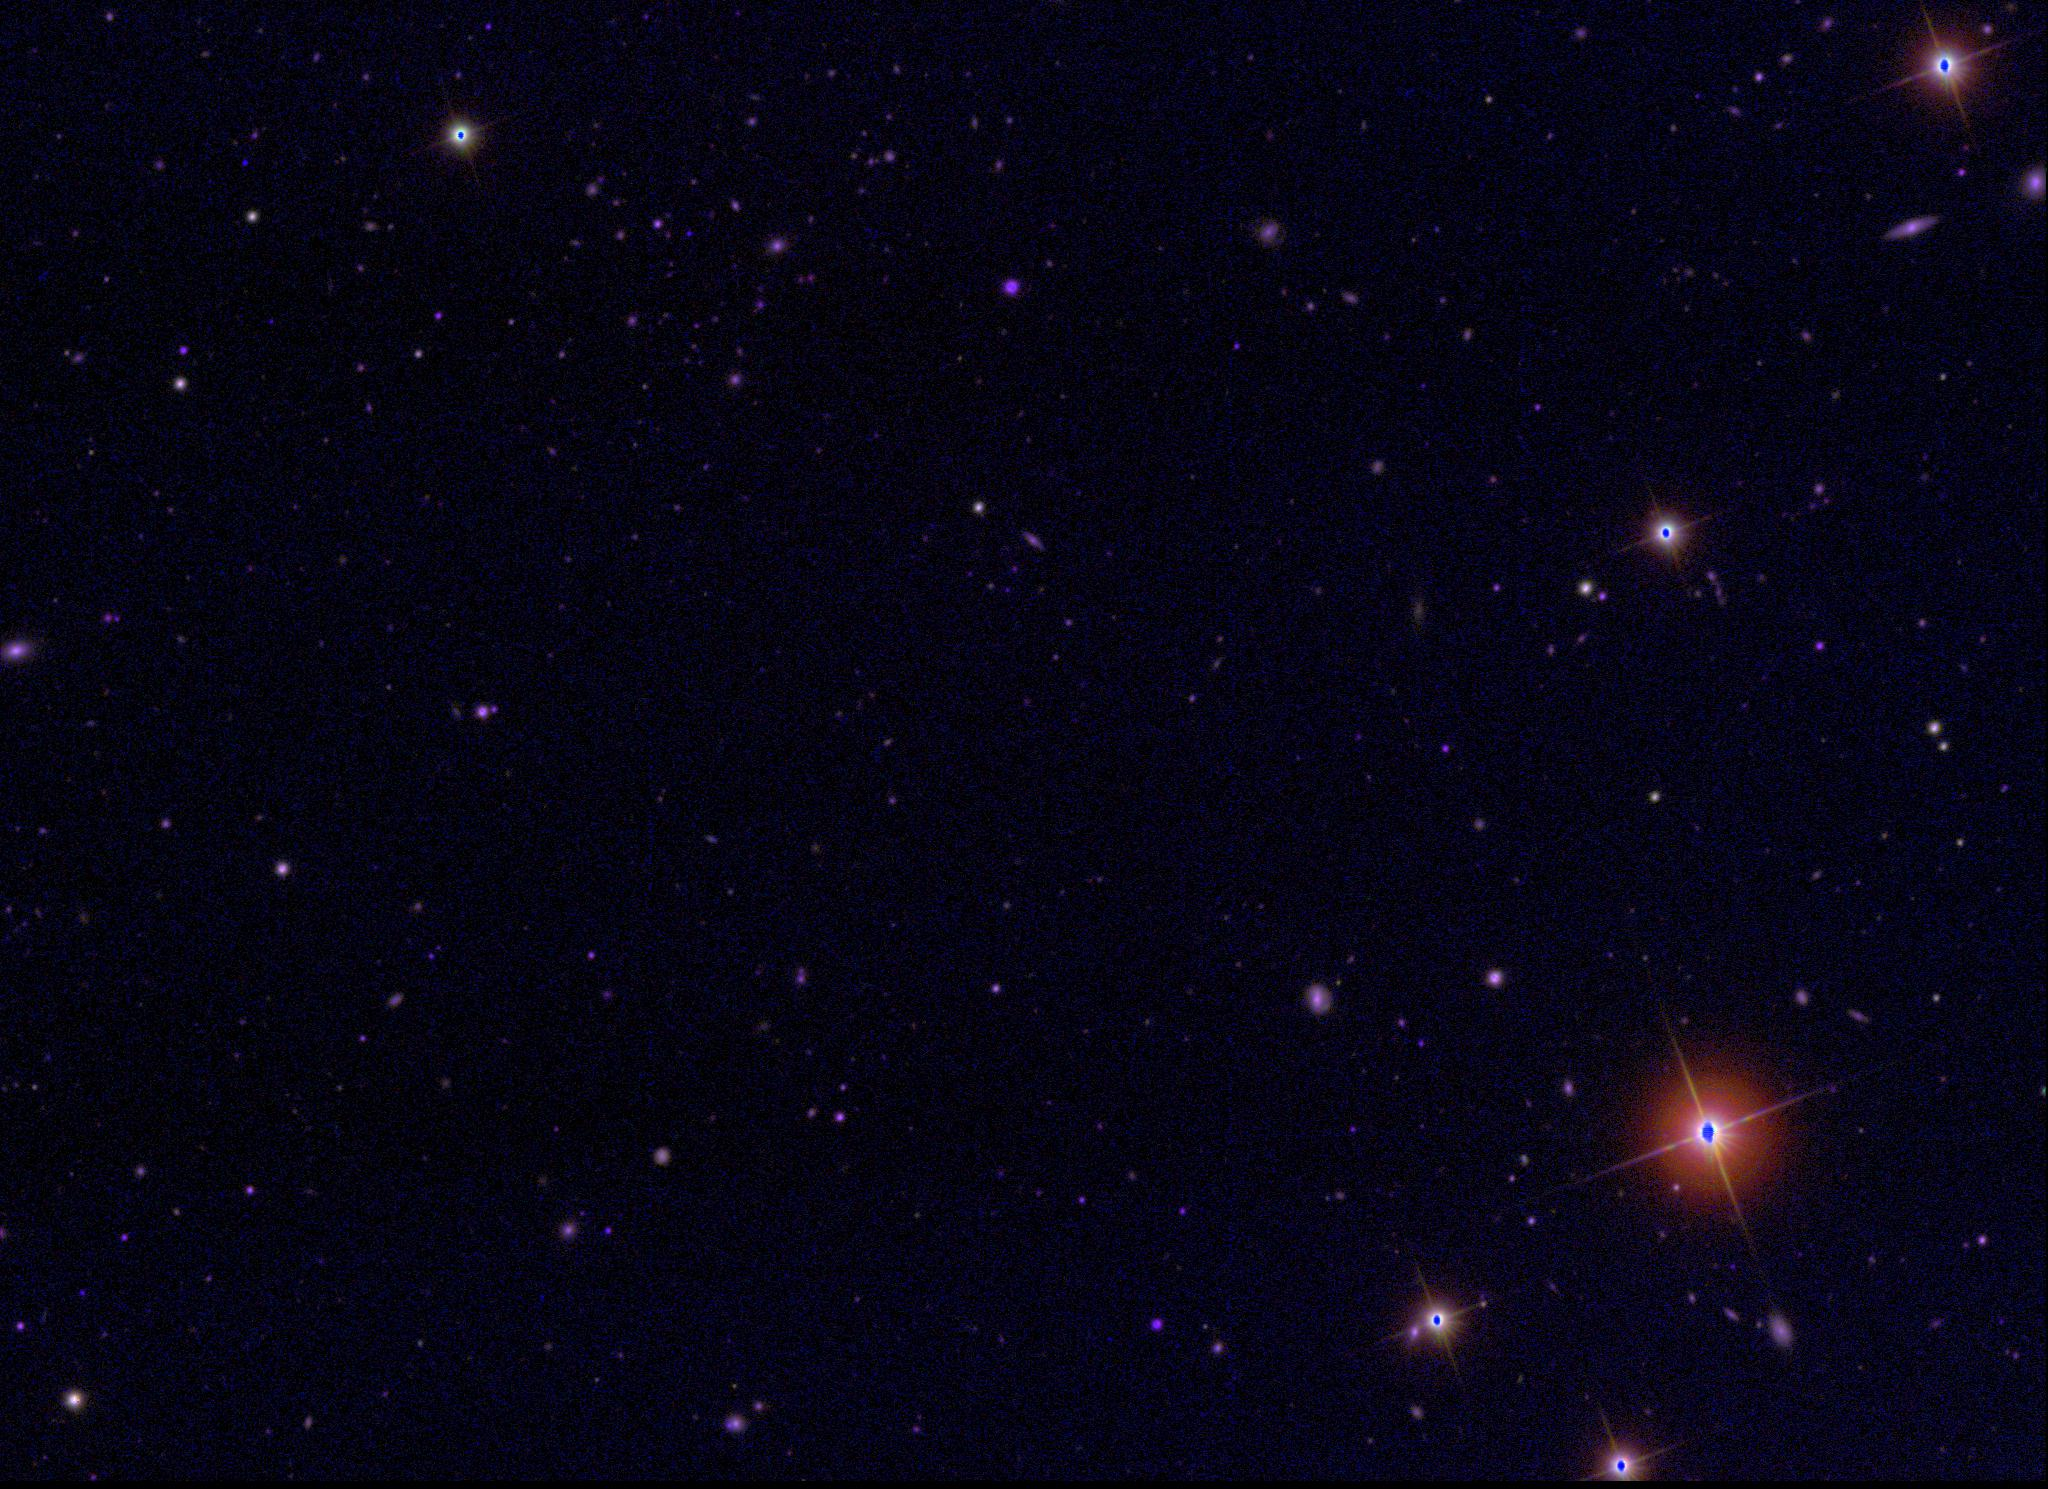L: (239, 156, 251, 170)
